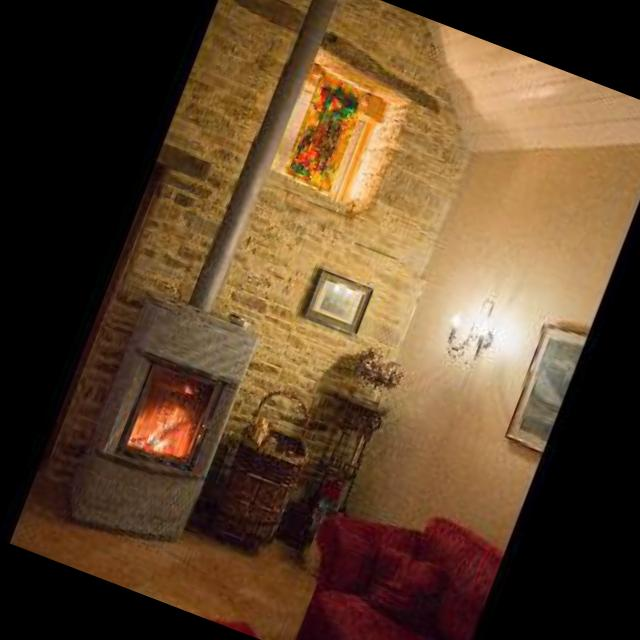fire: (117, 356, 219, 468)
